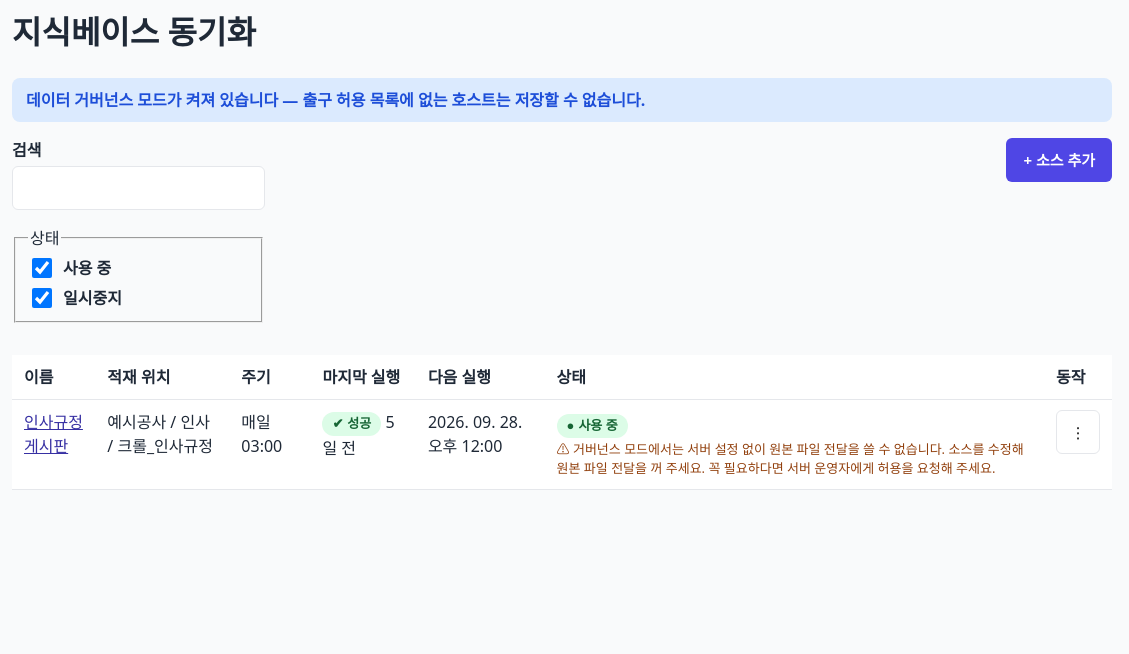
Test case: KbSourcesPage › 거버넌스 위반 시 "지금 실행" 사전 비활성 › 거버넌스 ON + 원본 파일 전달 켬 + 서버 허용 없음이면 원본 파일 사유로 비활성이다
Click the button named "관리": (1078, 432) [1056,410,1100,454]
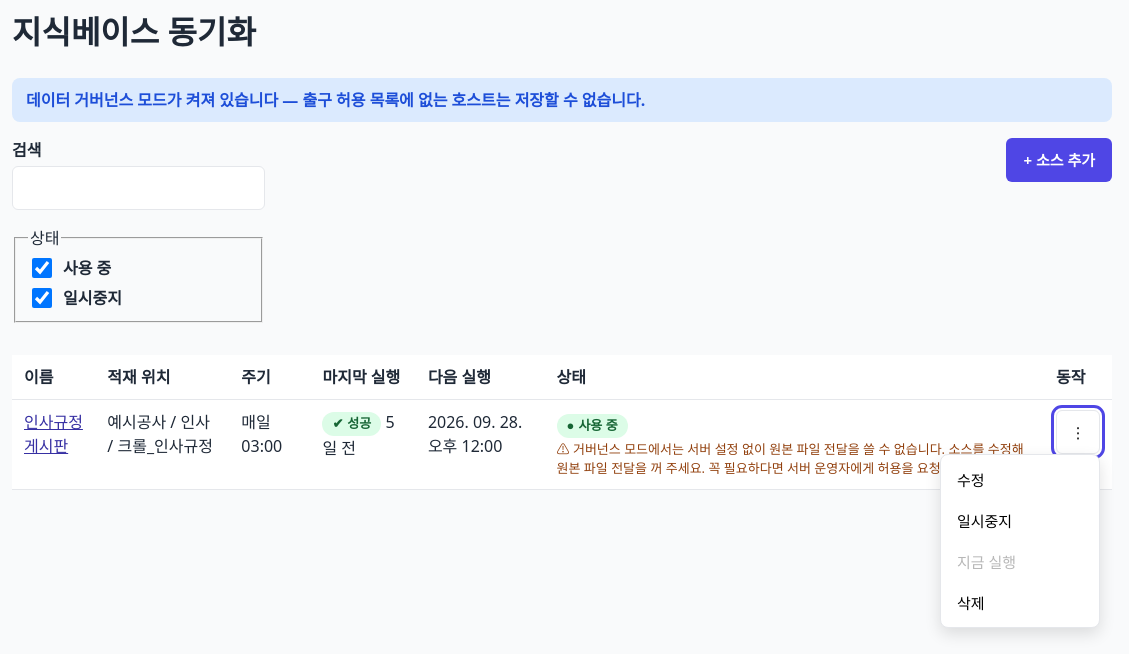
Now the menu item "지금 실행" is disabled, box [945,542,1095,582]
